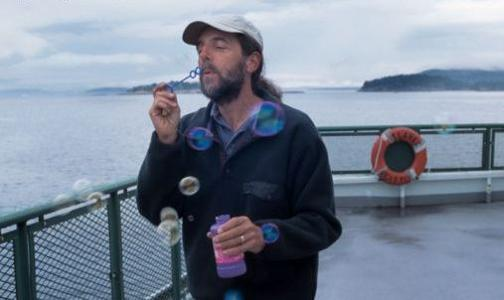person: (137, 14, 344, 300)
